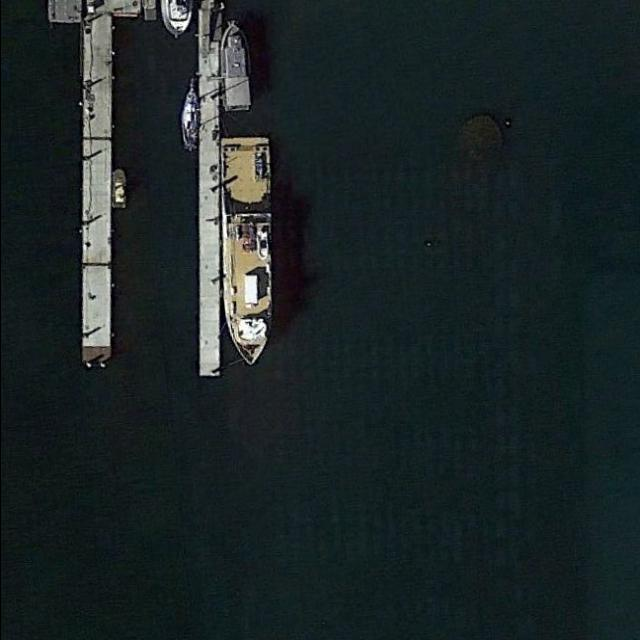ship: (218, 136, 276, 368), (219, 20, 255, 114), (180, 84, 200, 150), (110, 165, 126, 212)
